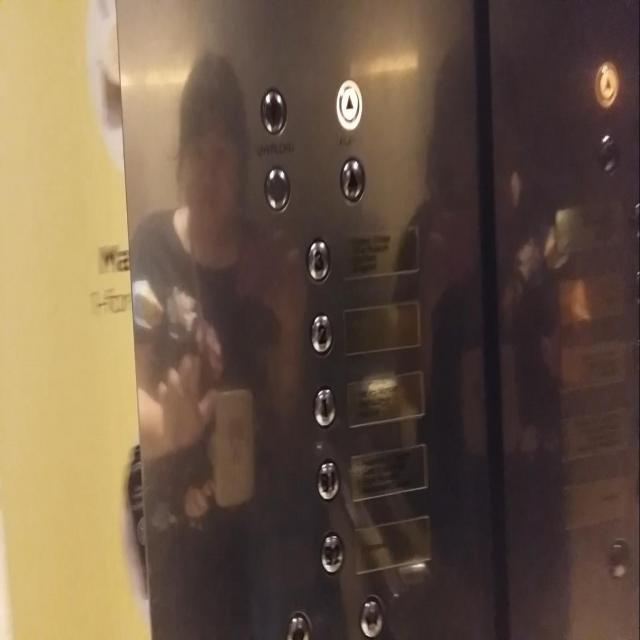1: (312, 384, 336, 428)
2: (309, 313, 333, 355)
3: (305, 235, 331, 283)
B1: (315, 458, 340, 501)
B2: (320, 529, 344, 575)
blur: (264, 163, 290, 215), (338, 154, 365, 204), (259, 88, 287, 136), (359, 593, 384, 639)
up: (334, 78, 362, 130), (594, 62, 619, 109)
